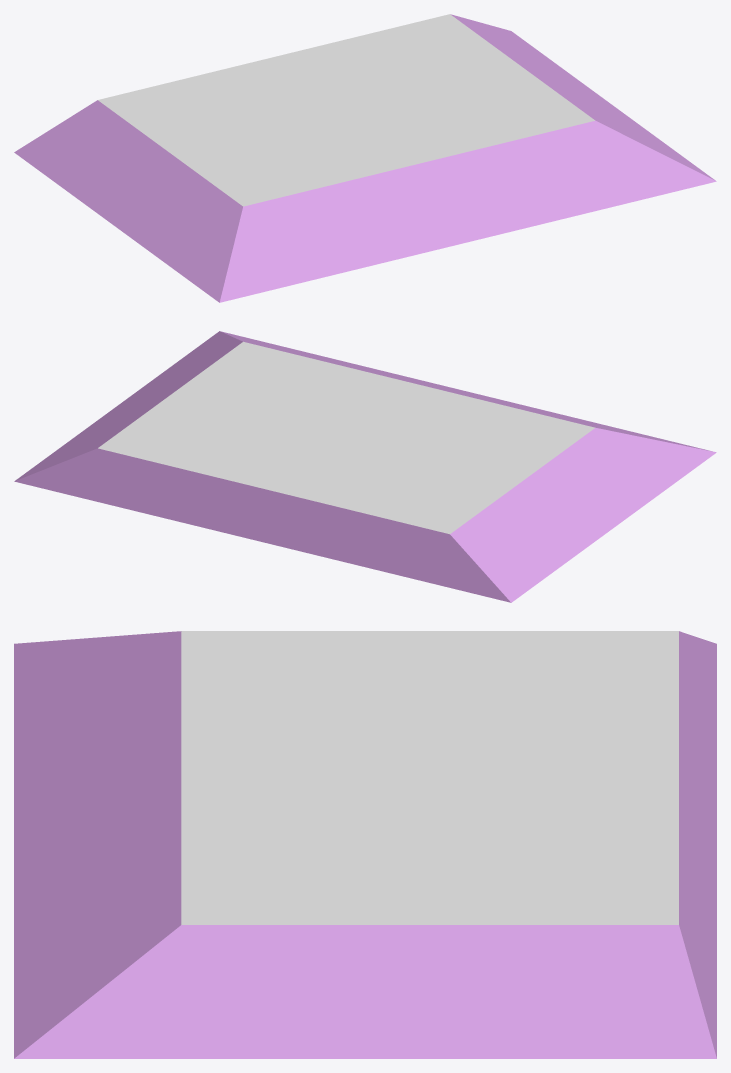
The model's file is reflection_test_obj.glb.
3 views of the same model, one above another, from view 1: azimuth 30°, elevation 25°; view 2: azimuth 150°, elevation 25°; view 3: azimuth 270°, elevation 25° (orthographic). The views are drawn at different scales.
Visible parts, largest first — view 1: Cube; view 2: Cube; view 3: Cube.
Boxes of the visible parts, x1,y1,x2,y2 form: Cube: [14, 14, 716, 302]; Cube: [14, 331, 716, 602]; Cube: [14, 631, 716, 1058].
Bounding box in the file's own units: 9.32 × 0.766 × 6.67.
